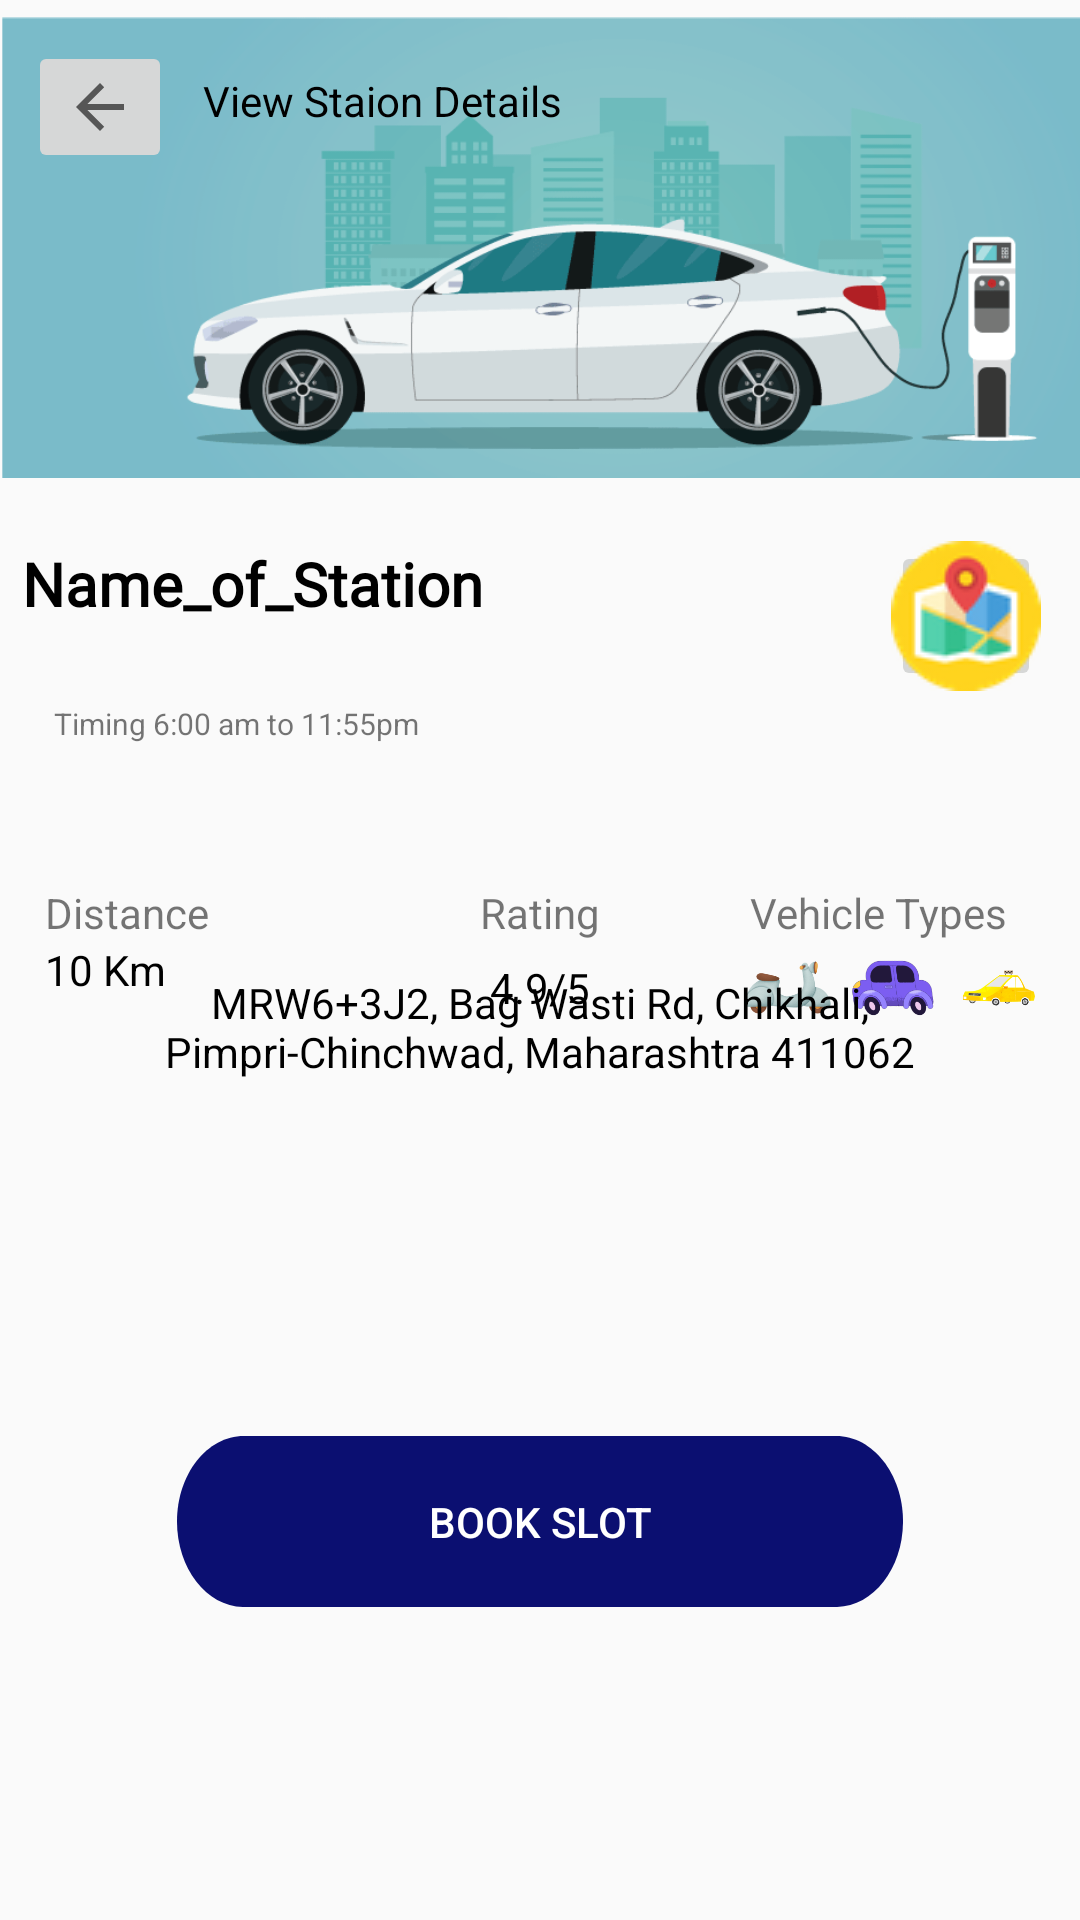

Named icons in this screenshot (1080×1920) and their centers, [x,y]:
locate map: [966,616]
